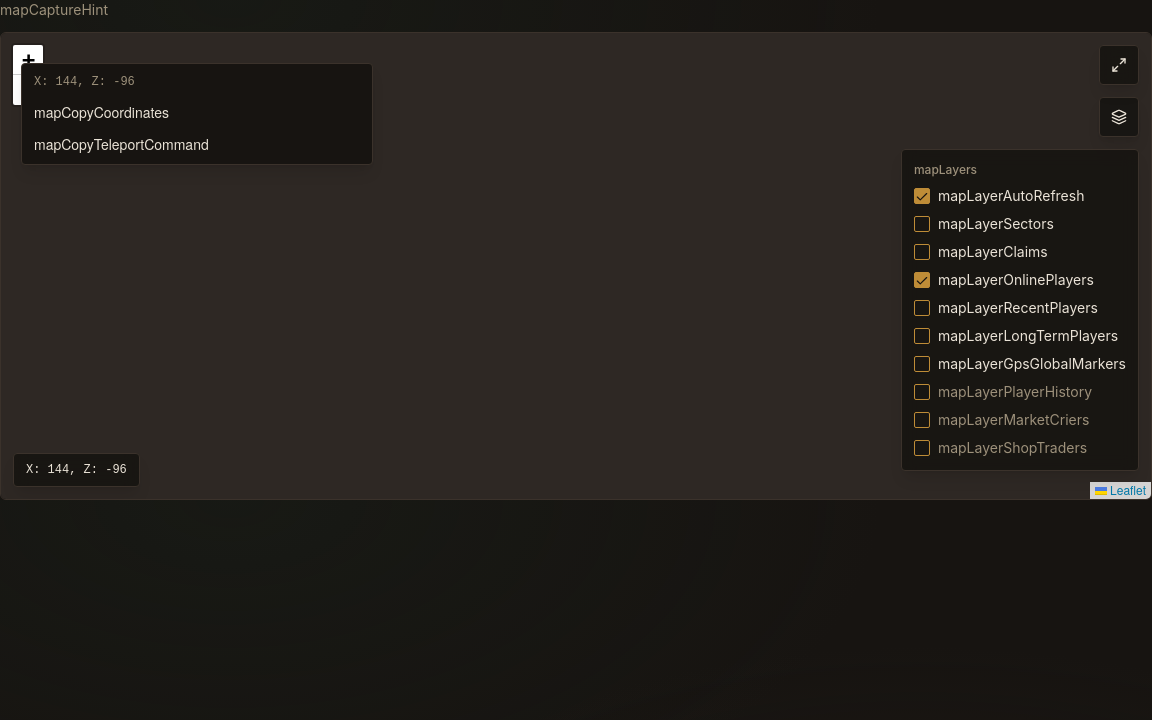
Test: AdminMapTab › shows world coordinates and opens a selected copy value from the map context menu
Check: the 2nd text "X: 144, Z: -96" is shown, box [13, 453, 140, 487]
Press the mouse on the button "mapCopyCoordinates" at (101, 112), box [26, 96, 368, 128]
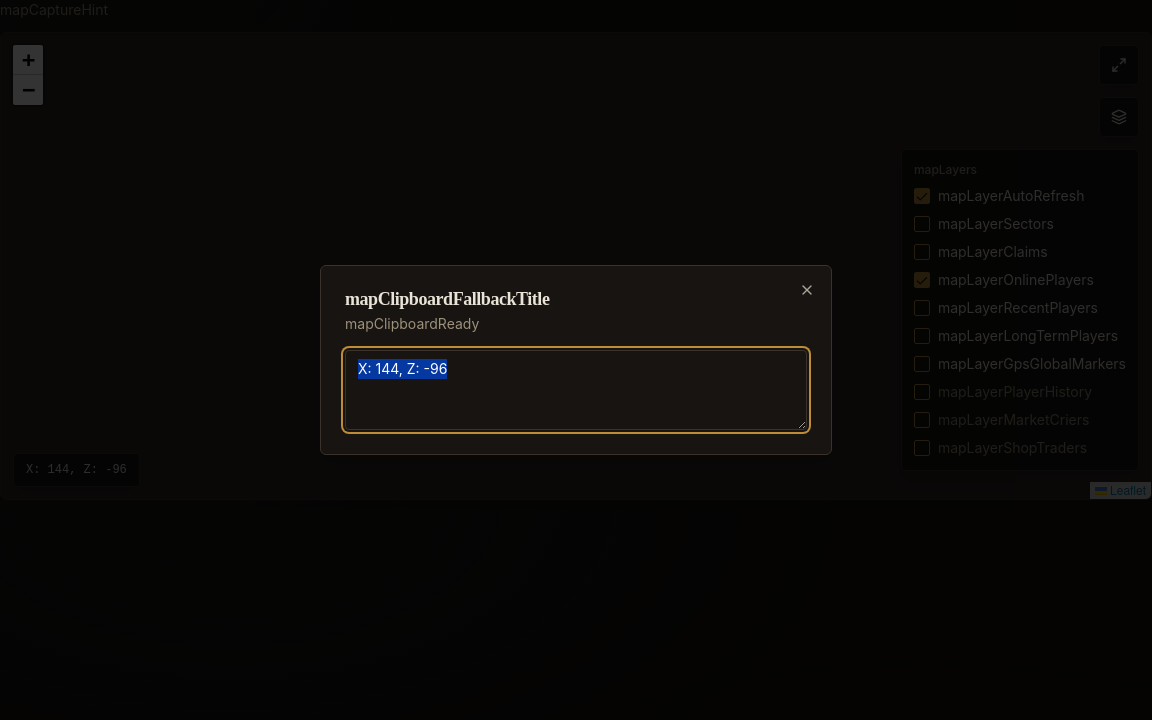
Check: the text box named "mapClipboardReady" holds "X: 144, Z: -96", box [345, 350, 807, 430]
